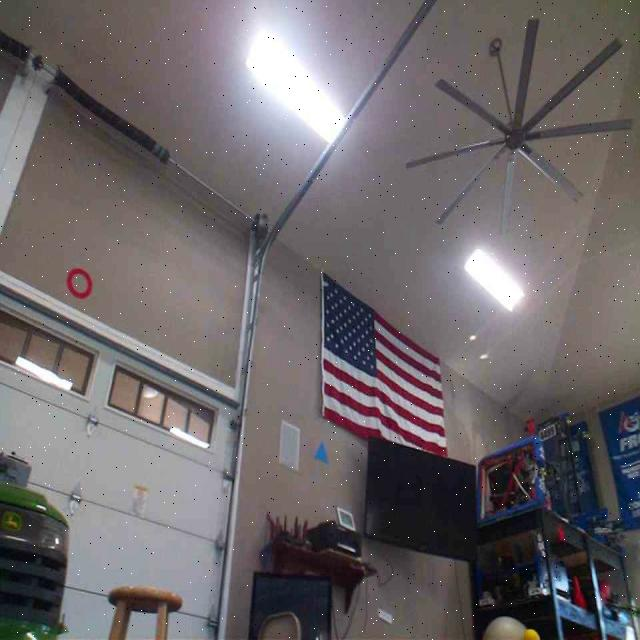ring_red: (66, 266, 92, 296)
triangle_blue: (313, 440, 329, 461)
